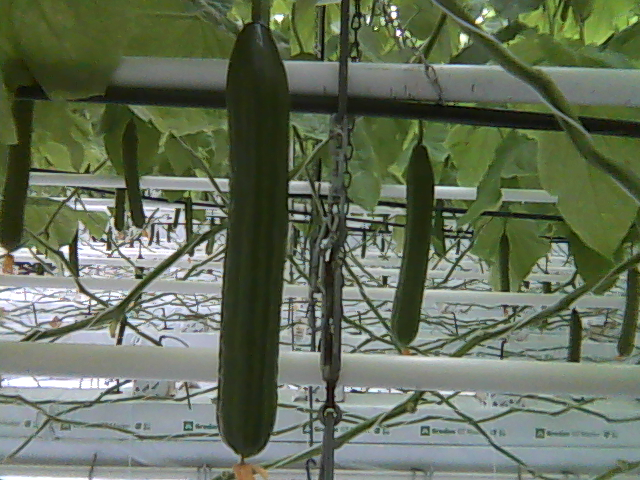concombre: (213, 17, 291, 480)
